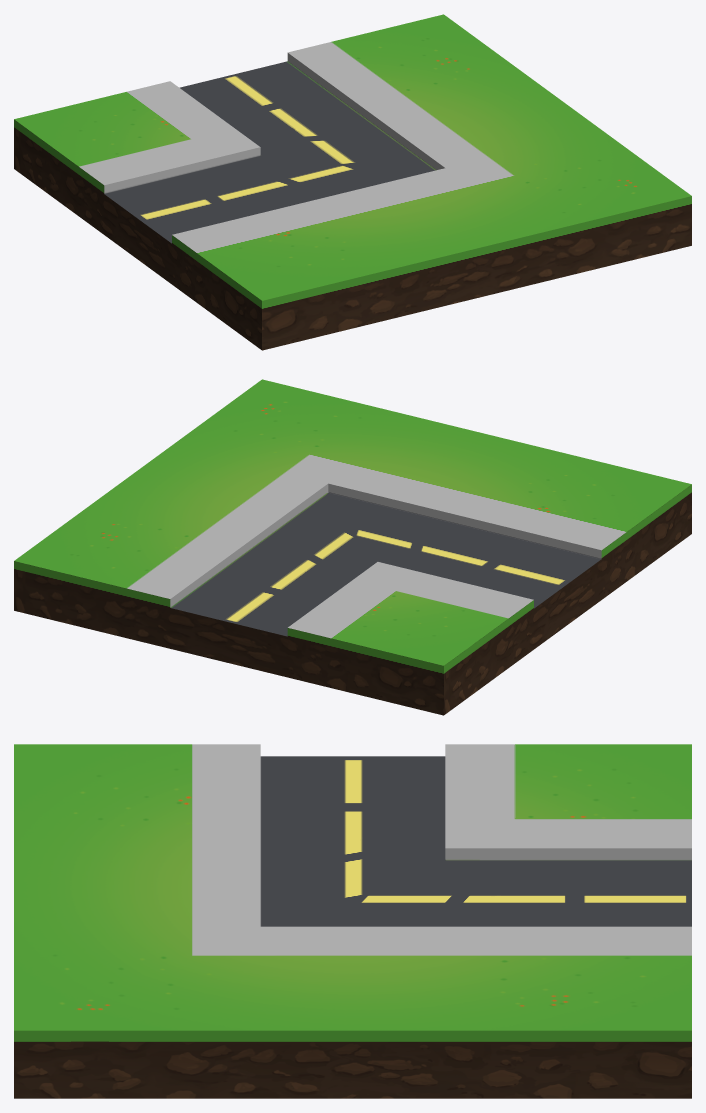
Rendered from city_road_01.fbx.
3 renders of one model, top to bottom at view 1: azimuth 30°, elevation 25°; view 2: azimuth 150°, elevation 25°; view 3: azimuth 270°, elevation 25°, orthographic. The views are drawn at different scales.
Parts seen in each view (by area): view 1: road_01; view 2: road_01; view 3: road_01.
Part boxes in pixels (x1,y1,x2,y2): road_01: [14, 14, 691, 350]; road_01: [14, 379, 691, 715]; road_01: [14, 744, 691, 1098].
Bounding box in the file's own units: 22 × 2.43 × 22.
